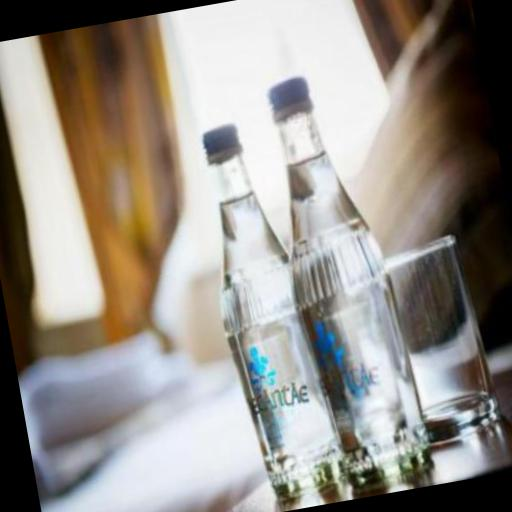Coca: (249, 54, 446, 492), (176, 101, 365, 512)
